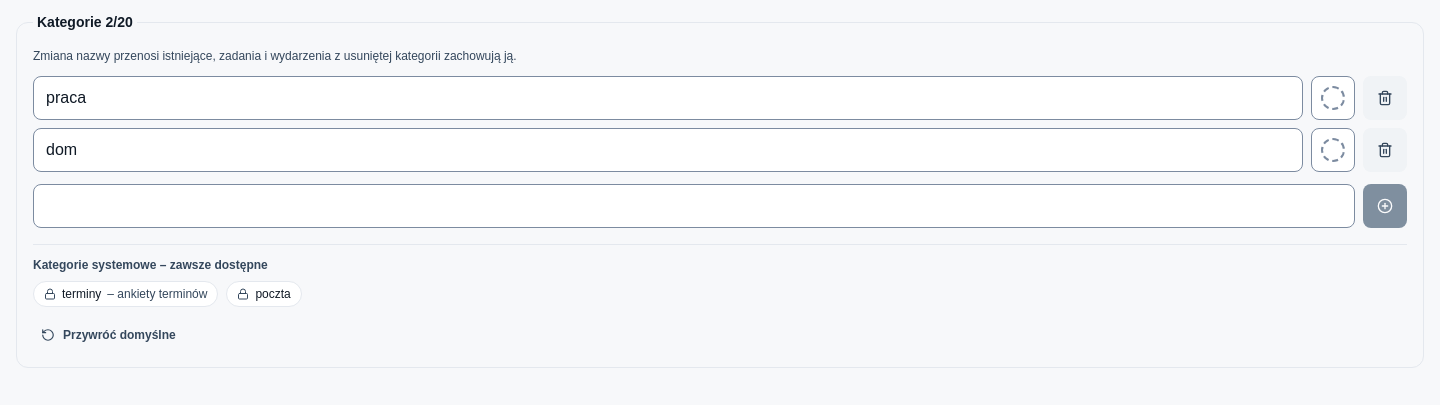
Scenario: TaskCategoriesEditor › odrzuca duplikat i nazwę systemową z komunikatem
This screenshot has width=1440, height=405.
In the field named "Nowa kategoria": x=694, y=206 top-left (33, 184), bottom-right (1355, 228), type "PRACA"
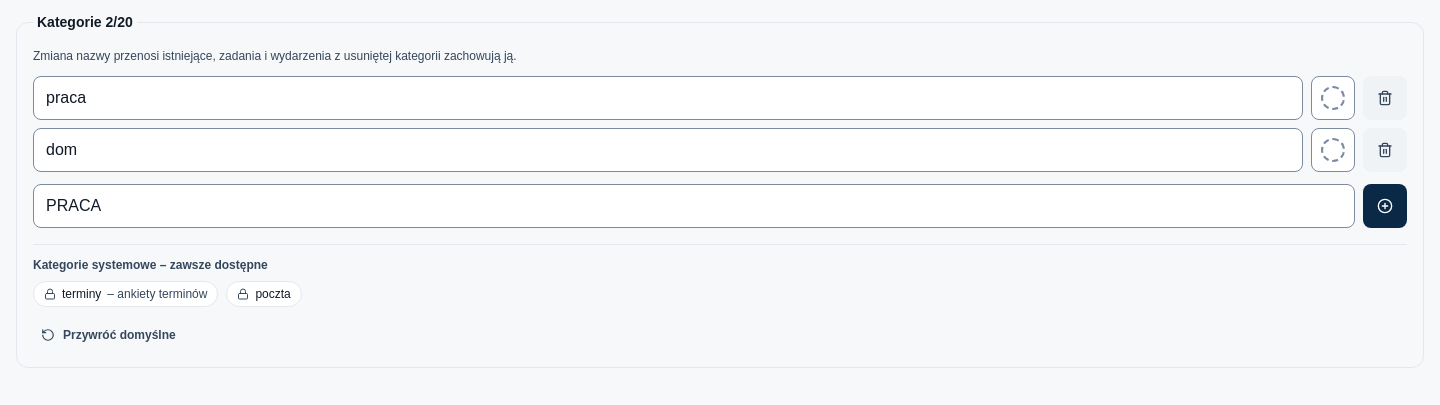
Click the button named "Dodaj": x=1385, y=206 top-left (1363, 184), bottom-right (1407, 228)
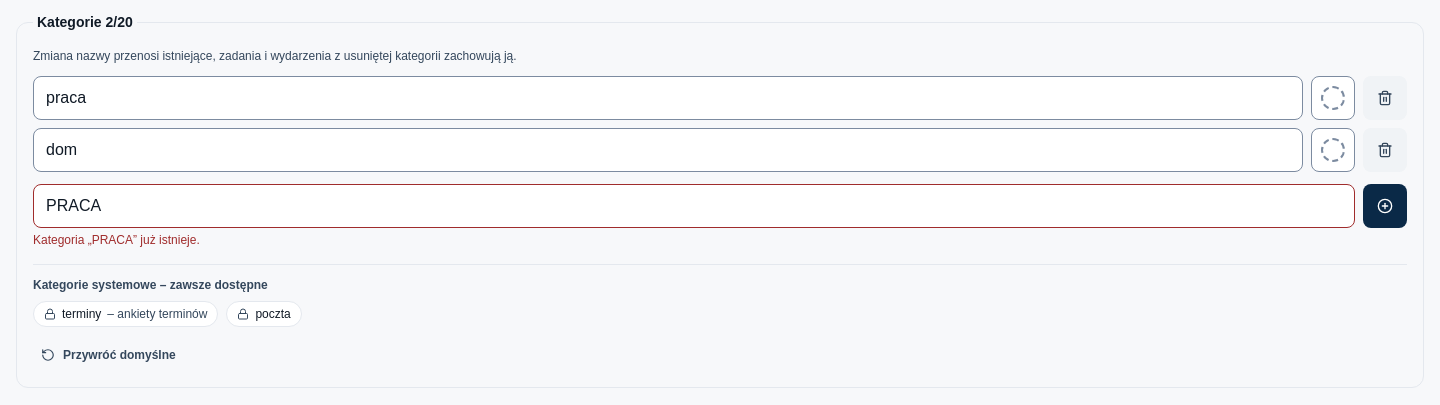
Expected: the text "Kategoria „PRACA” już istnieje." is shown, top-left (33, 233), bottom-right (200, 247)
Replace the text in the field named "Nowa kategoria" with "terminy": x=694, y=206 top-left (33, 184), bottom-right (1355, 228)
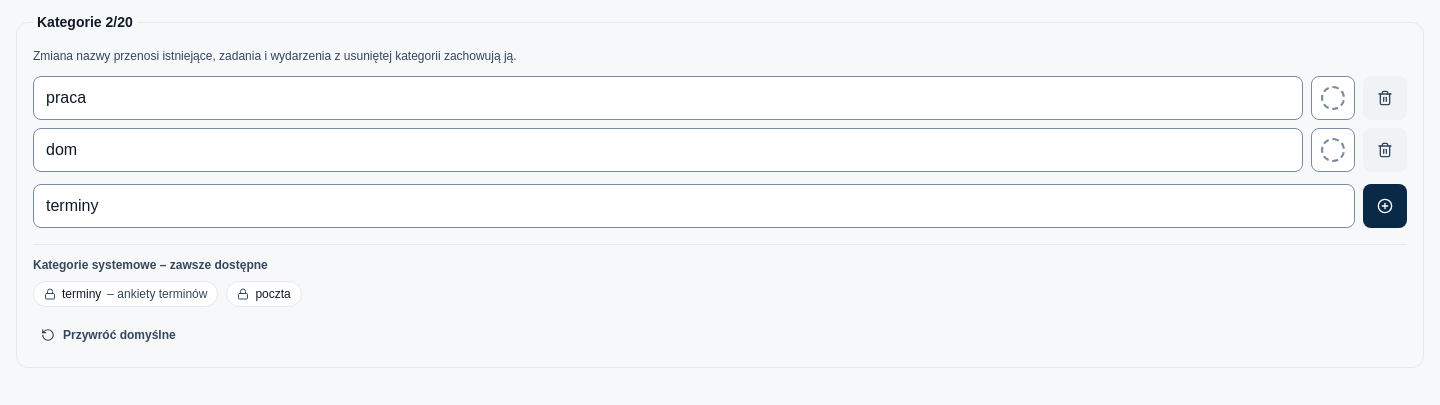
Click the button named "Dodaj": x=1385, y=206 top-left (1363, 184), bottom-right (1407, 228)
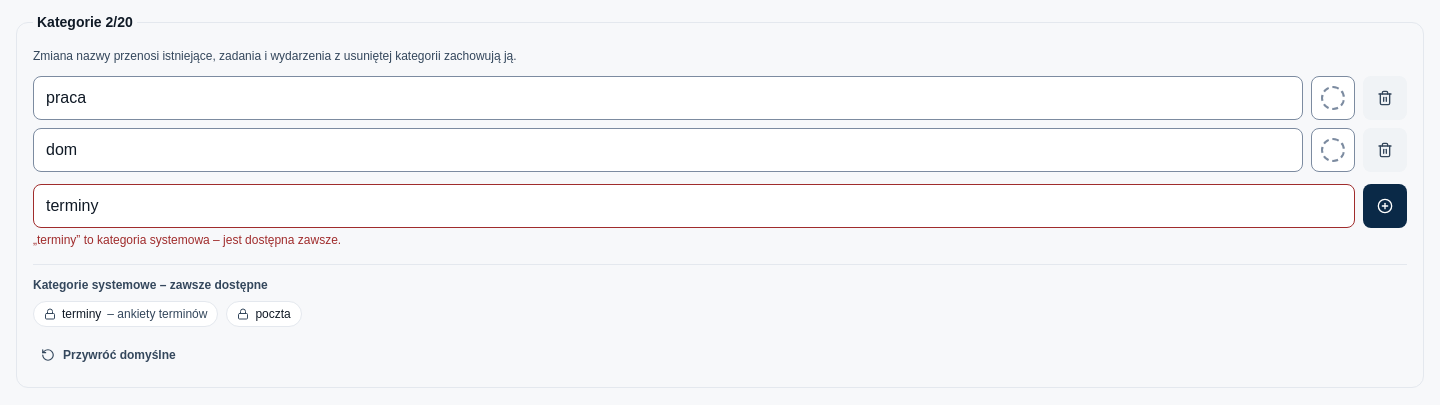
Expected: the text "„terminy” to kategoria systemowa – jest dostępna zawsze." is shown, top-left (33, 233), bottom-right (341, 247)
